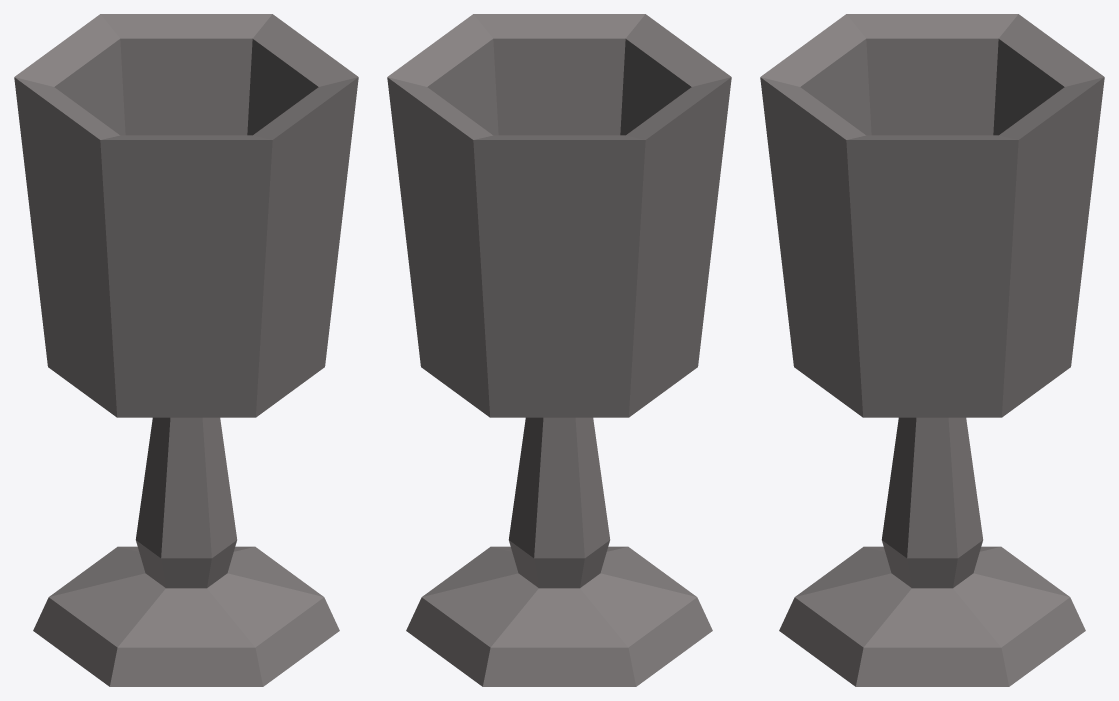
Rendered from goblet.glb.
The picture shows the model from 3 angles, left to right: view 1: azimuth 30°, elevation 25°; view 2: azimuth 150°, elevation 25°; view 3: azimuth 270°, elevation 25°; orthographic projection.
Parts seen in each view (by area): view 1: goblet; view 2: goblet; view 3: goblet.
Part boxes in pixels (box(x1,y1,x2,y2)): goblet: box(14, 14, 358, 686); goblet: box(387, 14, 731, 686); goblet: box(760, 14, 1104, 686).
Bounding box in the file's own units: 0.1696 × 0.3472 × 0.1958.
Materials: 1 (1 with a texture image).
